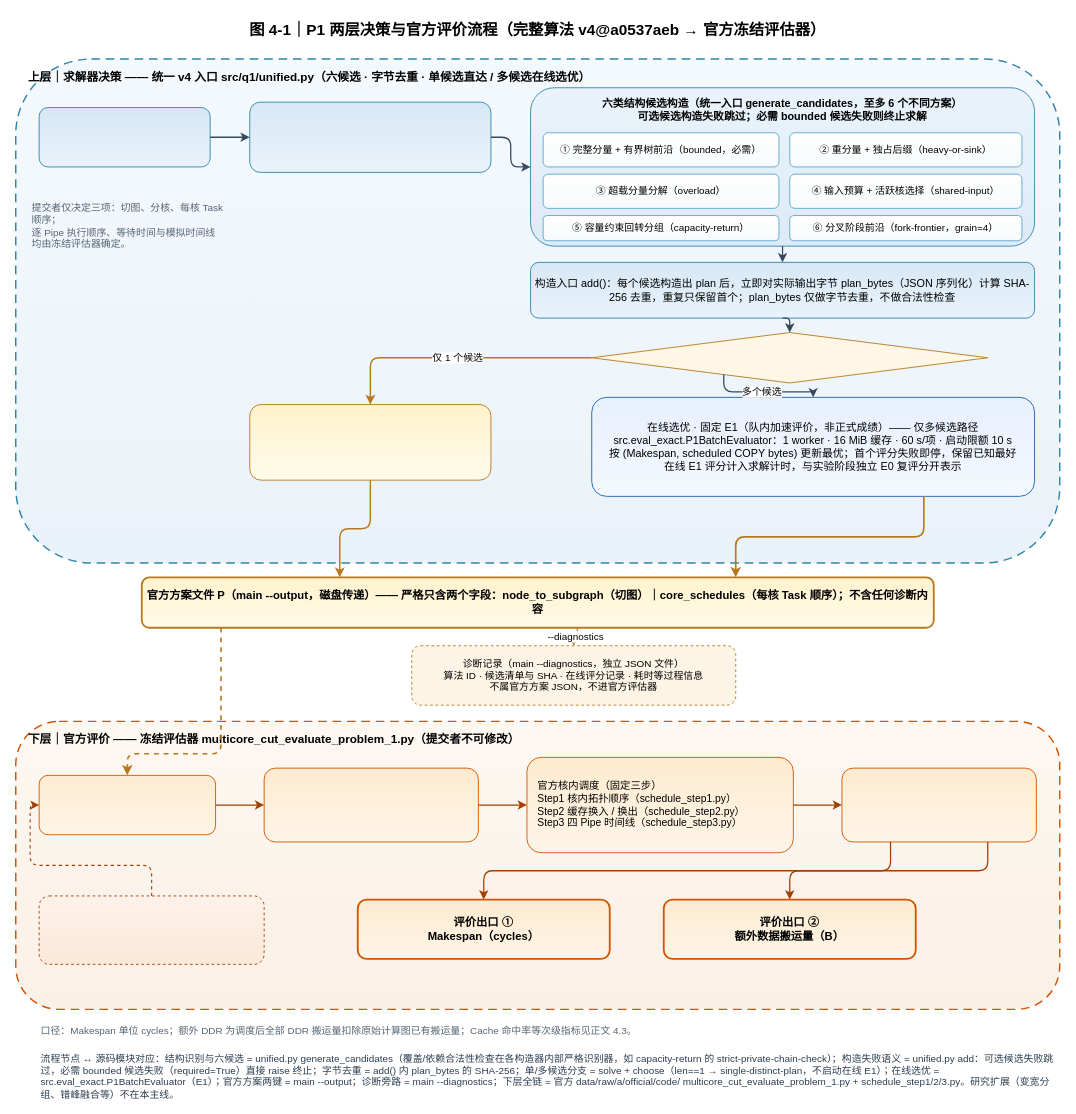
This 1076x1114 diagram has some shape labels left out. The centre of each missing label's shape, as x and y in pixels:
"E0 独立最终复评 实验阶段 · 未修改官方评估器 （与上层在线 E1 分开表示）" belongs at [151,929].
"solve：去重后候选数 = 1？（unified.py solve / choose 分支）" belongs at [789,357].
"多核事件模拟 DDR 共享 60 B/cycle 同核 / 跨核 Task 门控 100 / 1000 cyc" belongs at [938,804].
"直接选定唯一候选（choose：single-distinct-plan） 不启动在线 E1 评分 输出方案仍需独立 E0 复评" belongs at [370,442].
"结构特征识别 弱连通分量 · Pipe 工作量 (4-10) 分叉阶段 (4-11) · 共享输入 · 同型链" belongs at [370,136].
"读入方案文件 按两键重建子图 / Task" belongs at [127,804].
"输入 原始计算图 G · 核数 K · 冻结配置 Θ" belongs at [124,137].
"边界 COPY 重建 Task 边界数据搬运 （COPY_OUT → DDR → COPY_IN）" belongs at [370,804].
